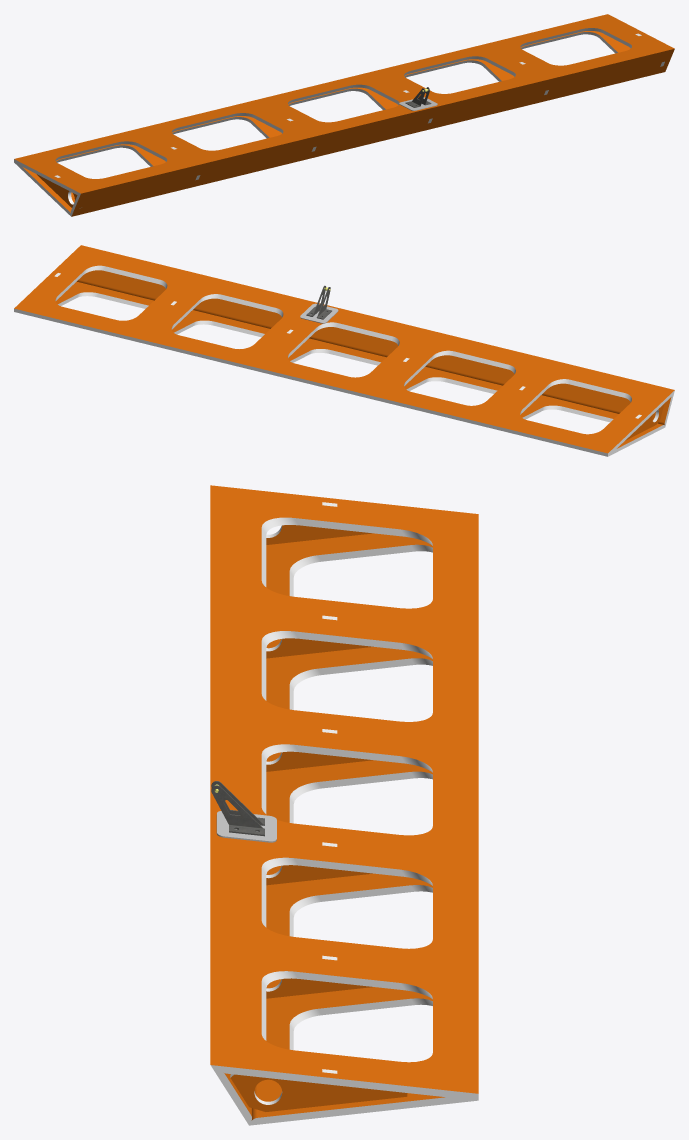
The model's file is Rudder.fbx.
The picture shows the model from 3 angles, top to bottom: view 1: azimuth 30°, elevation 25°; view 2: azimuth 150°, elevation 25°; view 3: azimuth 270°, elevation 25°; orthographic projection. The views are drawn at different scales.
Visible parts, largest first — view 1: foamboard brown with texture, depron white; view 2: foamboard brown with texture, depron white, green aluminum; view 3: foamboard brown with texture, depron white, foamboard brown with texture-2, green aluminum.
Boxes of the visible parts, x1=… form: foamboard brown with texture: x1=14, y1=14, x2=674, y2=216; depron white: x1=14, y1=28, x2=631, y2=216; foamboard brown with texture: x1=14, y1=245, x2=674, y2=453; depron white: x1=14, y1=265, x2=674, y2=456; green aluminum: x1=306, y1=285, x2=331, y2=319; foamboard brown with texture: x1=210, y1=485, x2=478, y2=1120; depron white: x1=210, y1=517, x2=478, y2=1125; foamboard brown with texture-2: x1=230, y1=525, x2=407, y2=1111; green aluminum: x1=211, y1=781, x2=264, y2=836.
Bounding box in the file's own units: 91 × 7.38 × 17.78.
